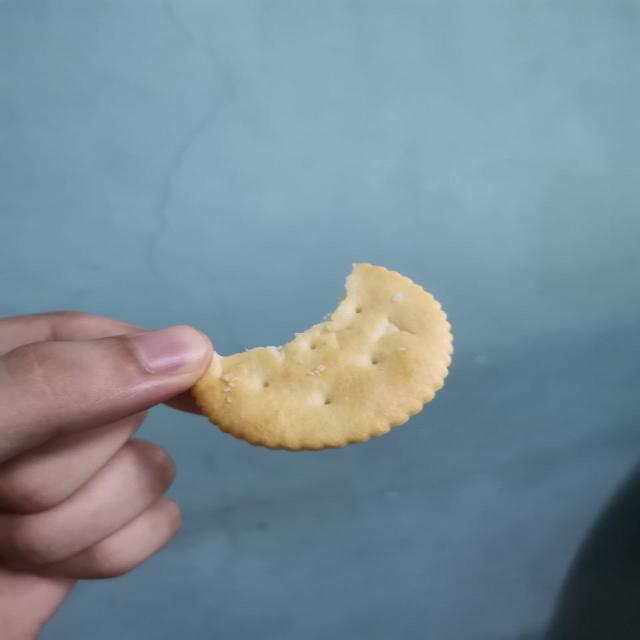broken biscuit: (190, 260, 456, 452)
